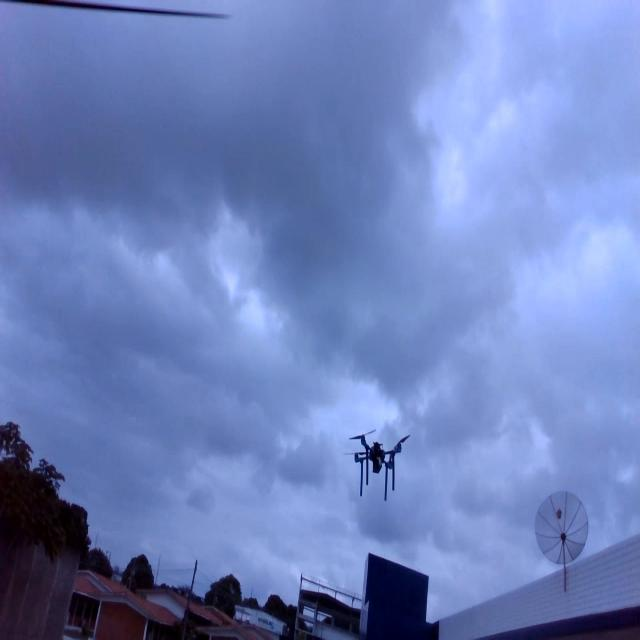-uav-: (346, 418, 412, 508)
